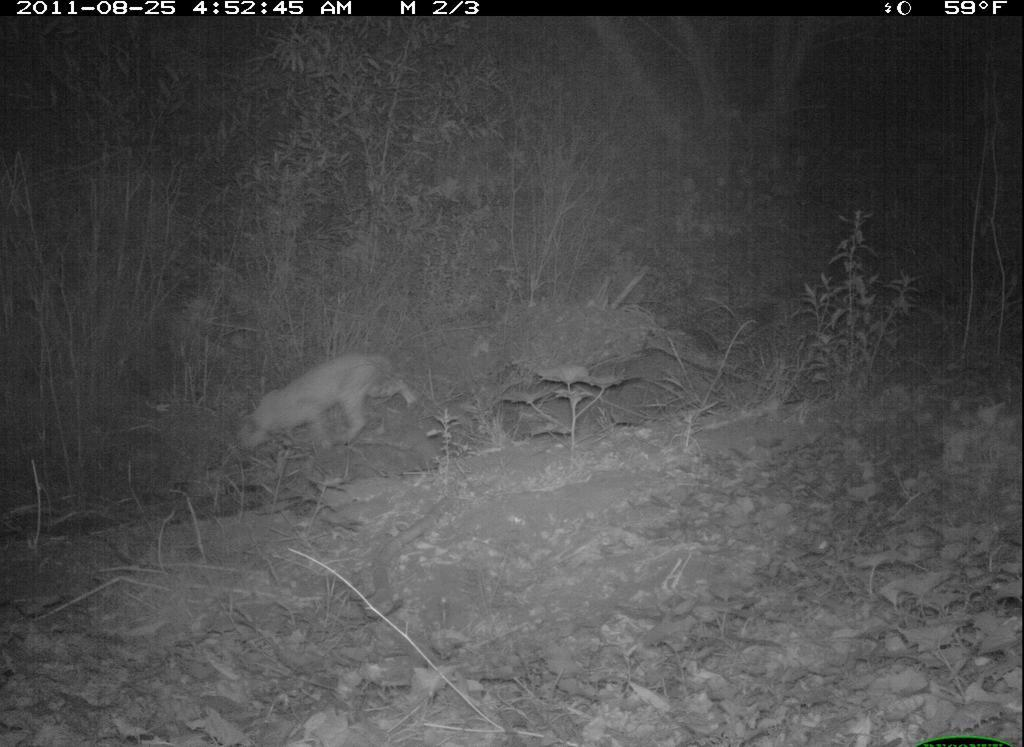bobcat: (226, 341, 428, 472)
